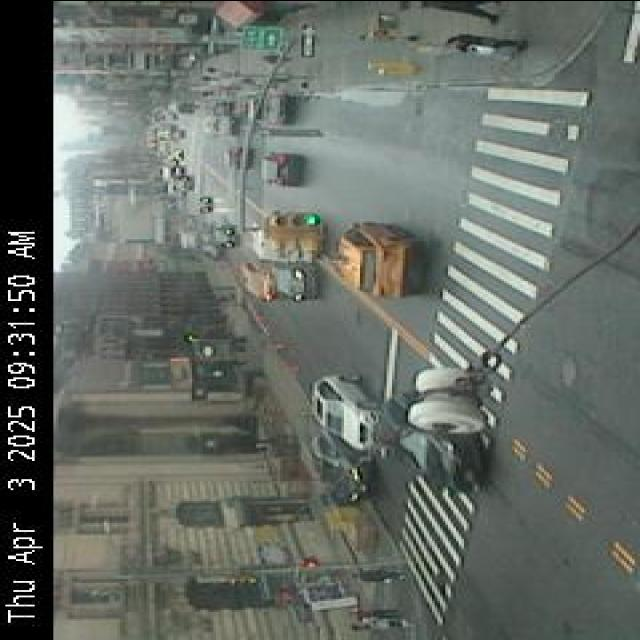open parking: (244, 88, 420, 128)
